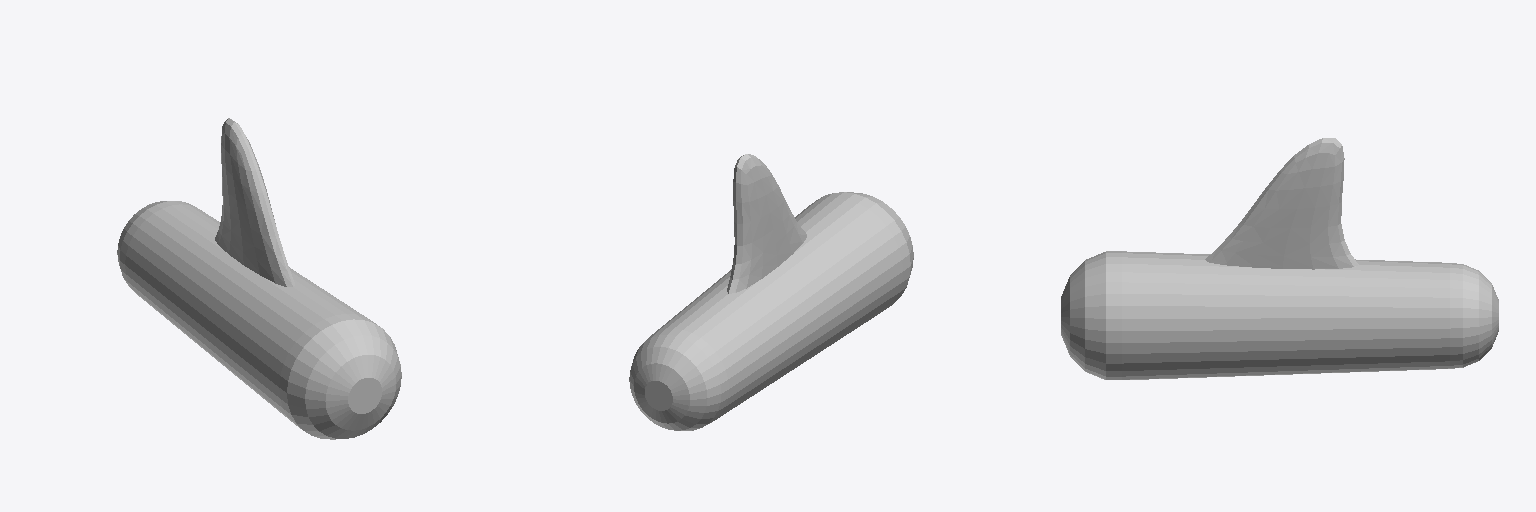
The model's file is boidSegment.obj.
3 views of the same model, side by side, from view 1: azimuth 30°, elevation 25°; view 2: azimuth 150°, elevation 25°; view 3: azimuth 270°, elevation 25° (orthographic).
Visible parts, largest first — view 1: Cylinder1, Cube2; view 2: Cylinder1, Cube2; view 3: Cylinder1, Cube2.
Part boxes in pixels (left/top/right/bottom): Cylinder1: left=117, top=201, right=401, bottom=439; Cube2: left=215, top=118, right=294, bottom=286; Cylinder1: left=629, top=192, right=913, bottom=430; Cube2: left=727, top=154, right=806, bottom=293; Cylinder1: left=1061, top=251, right=1498, bottom=379; Cube2: left=1205, top=138, right=1358, bottom=269.
Size of the model in its own units: 0.8 by 1.62 by 2.7.